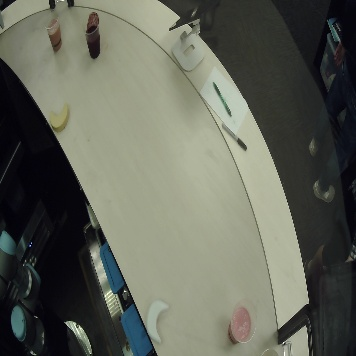full_cup: (225, 296, 260, 349), (78, 10, 106, 61), (40, 15, 65, 51)
puck: (142, 295, 174, 344), (45, 102, 71, 133)
